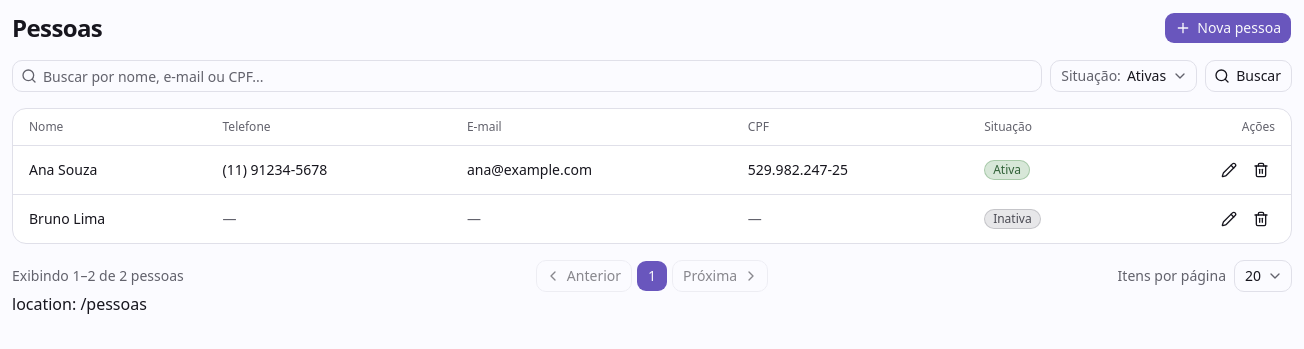
Test: ClientListPage › clears the search and the field, and lists everyone again, from "Limpar busca"
Check: the link "Ana Souza" is shown, box [29,160,97,179]
Type "zzz" into the field named "Buscar pessoas por nome, e-mail ou CPF" at (539, 76), box [37,60,1041,92]
Then press Enter
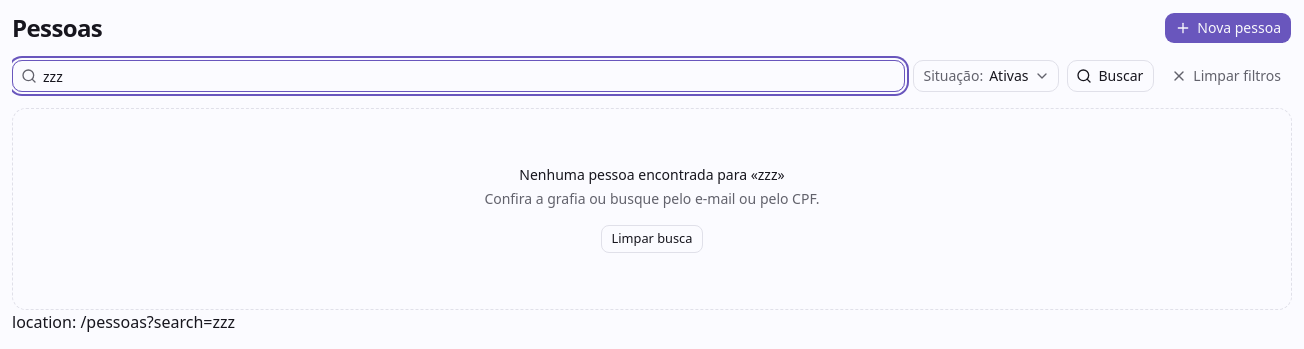
Click the button "Limpar busca" at (652, 239), box [601,225,704,253]
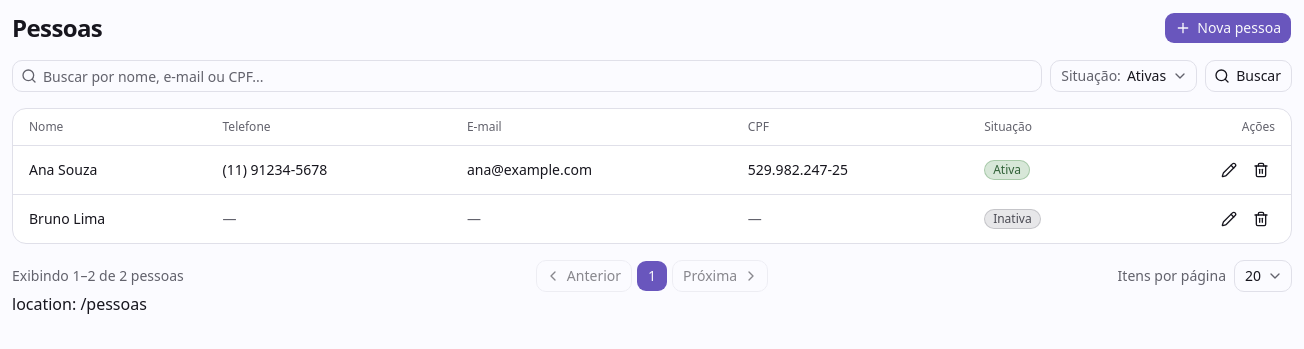
Check: the link "Ana Souza" is shown, box [29,160,97,179]
Check: the field named "Buscar pessoas por nome, e-mail ou CPF" is empty, box [37,60,1041,92]
